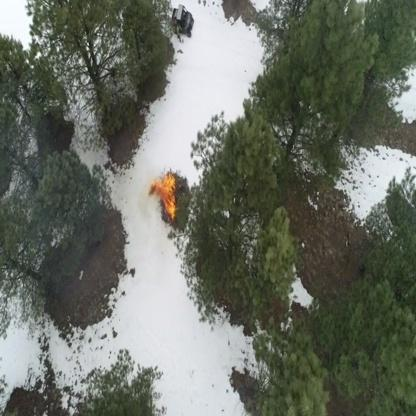Fire: (148, 171, 177, 222)
